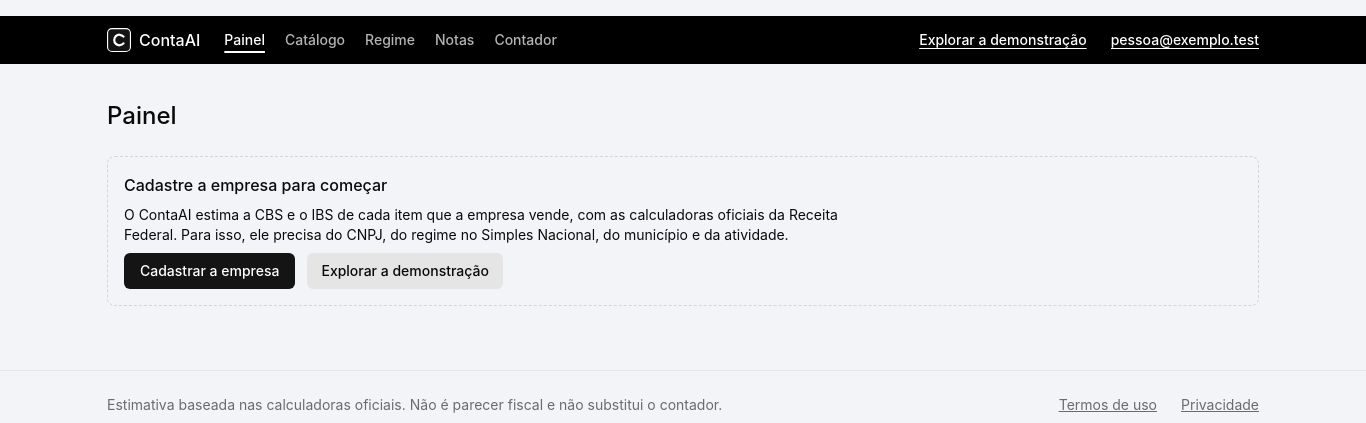
Test case: menu da conta na barra › Sua conta leva à página e fecha o menu
(page scrolled)
Click the button "pessoa@exemplo.test" at x=1185, y=40, box [1111,22,1259,58]
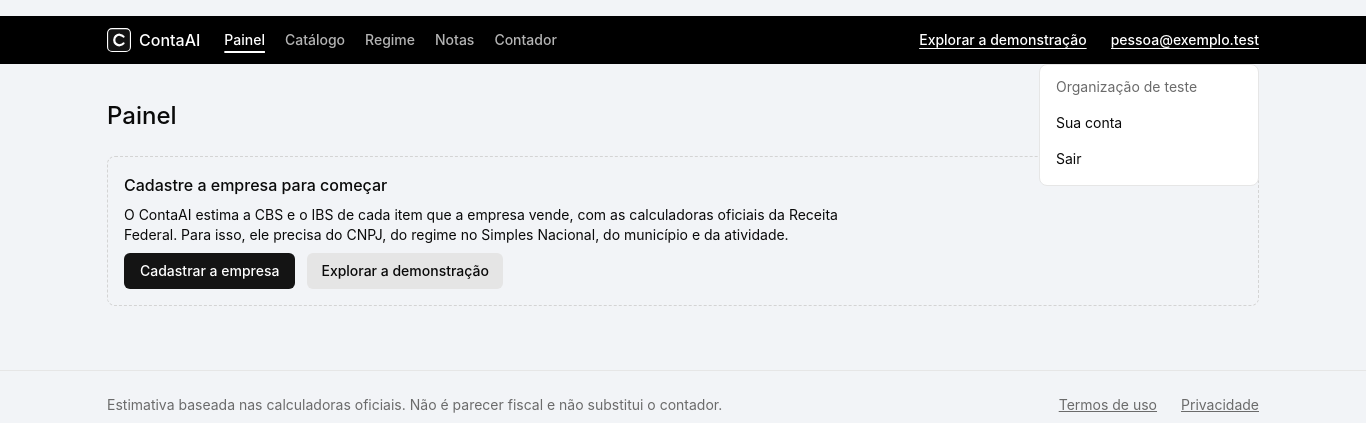
Click the link "Sua conta" at x=1089, y=122, box [1056,114,1122,131]
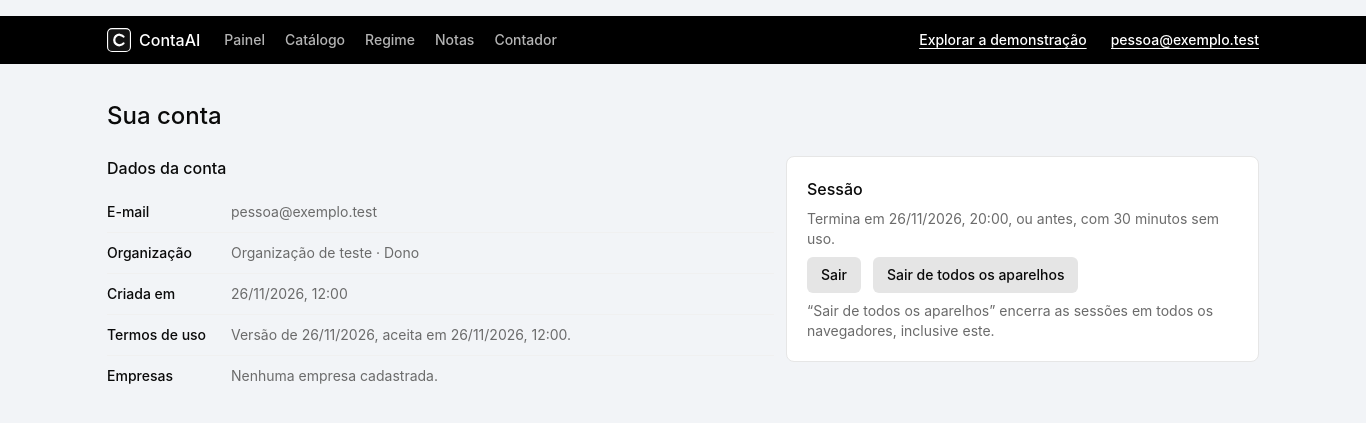
expect the heading "Sua conta" is shown: met, box [107,101,222,130]
